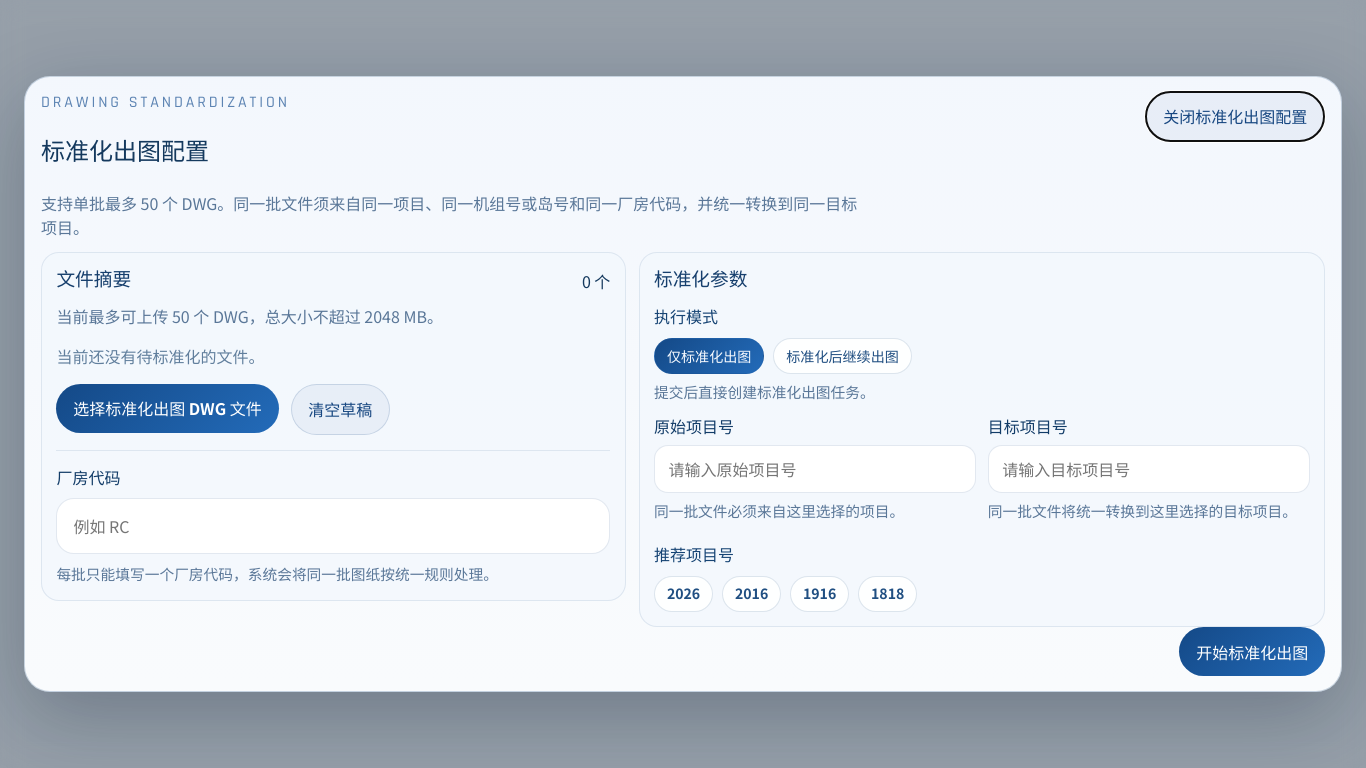
it: ReplaceWorkspace › shows the source unit or island selector for configured source projects
The image size is (1366, 768).
Expected: the field labelled "来源机组号/岛号" is not shown
In the field labelled "原始项目号": point(815, 469) [654,445,976,493], type "2016"
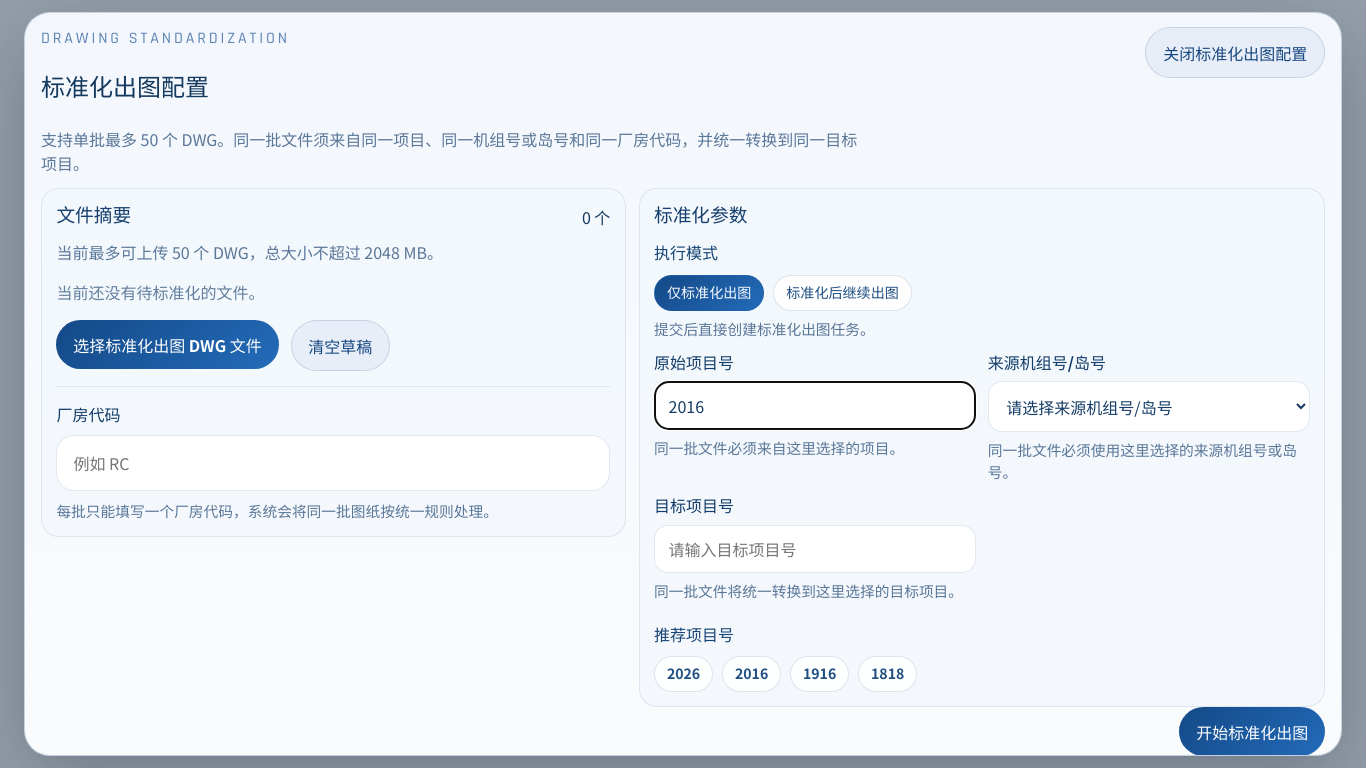
Expected: the dropdown labelled "来源机组号/岛号" is shown, [988,381,1310,432]
Clear the field labelled "原始项目号": point(815, 406) [654,381,976,430]
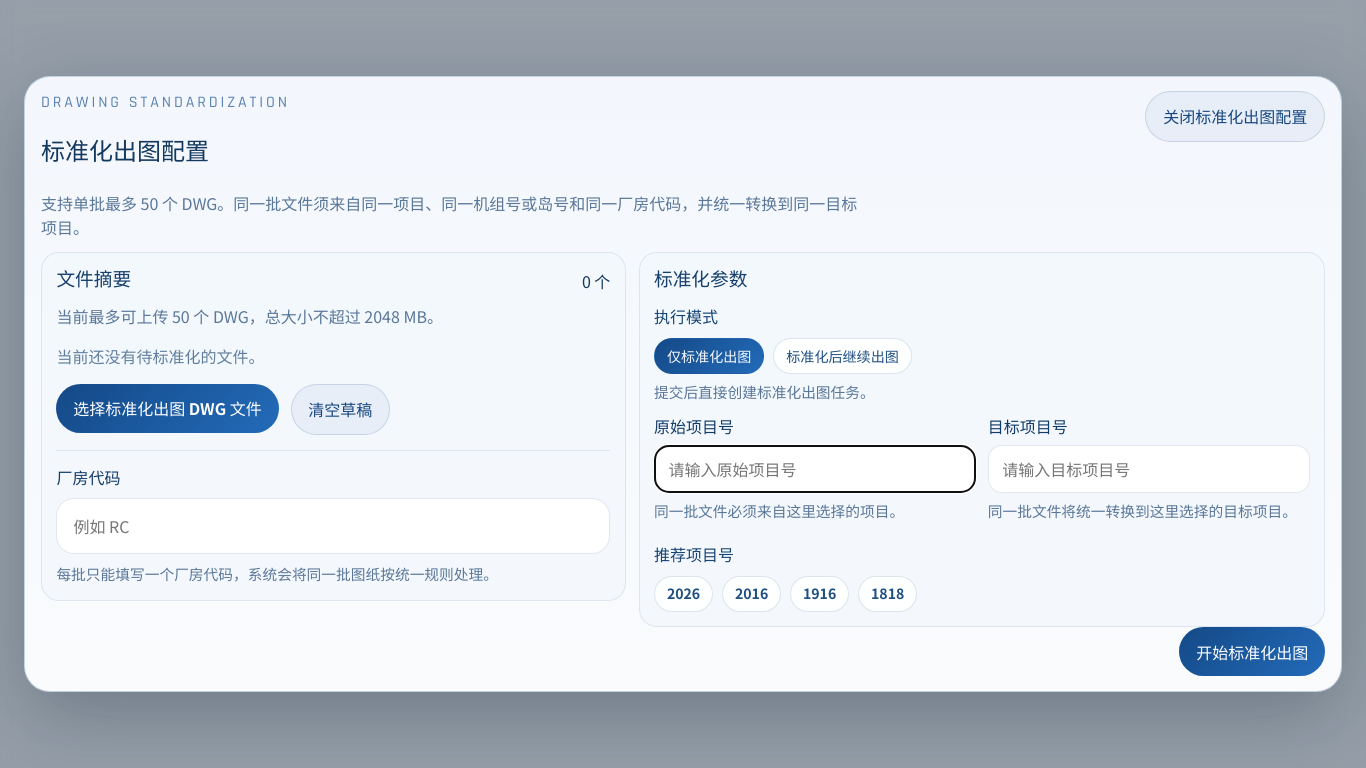
In the field labelled "原始项目号": point(815, 469) [654,445,976,493], type "1916"
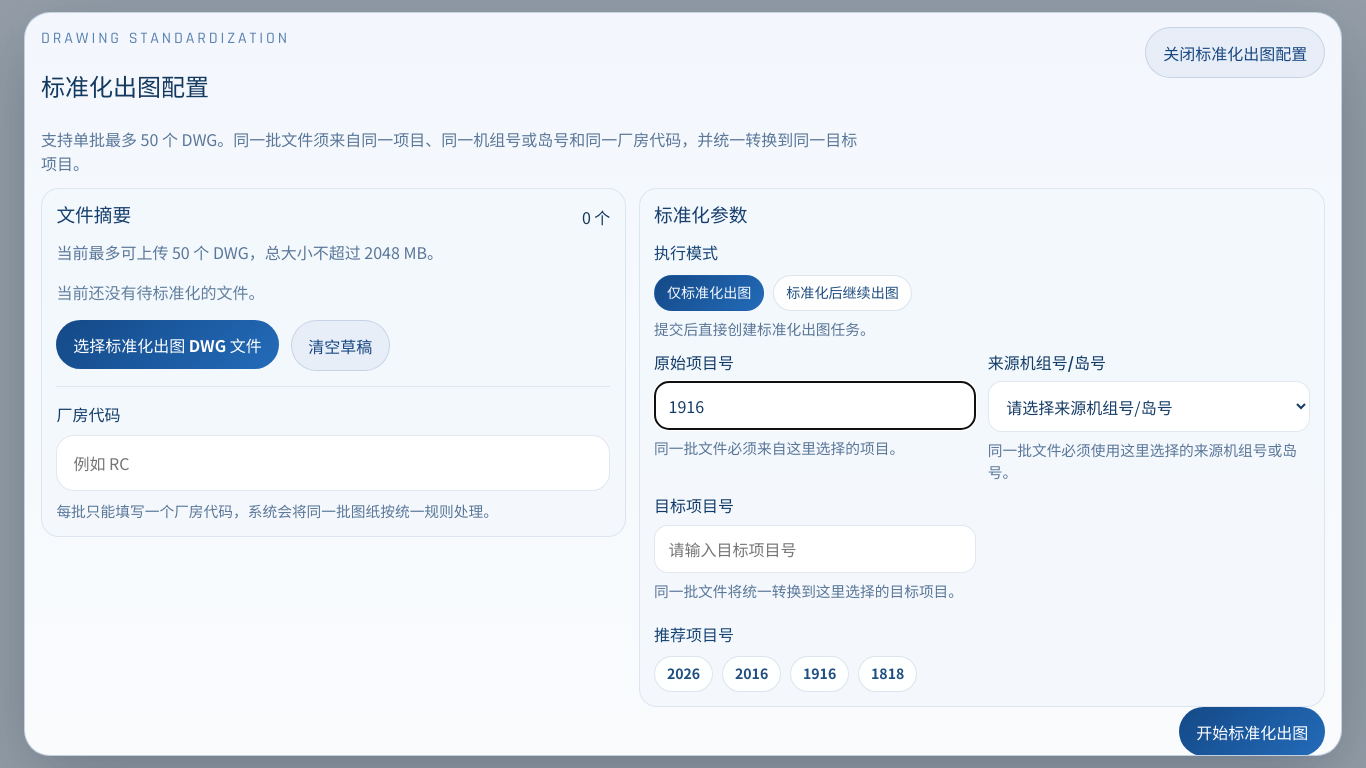
Expected: the dropdown labelled "来源机组号/岛号" is shown, [988,381,1310,432]
Clear the field labelled "原始项目号": point(815, 406) [654,381,976,430]
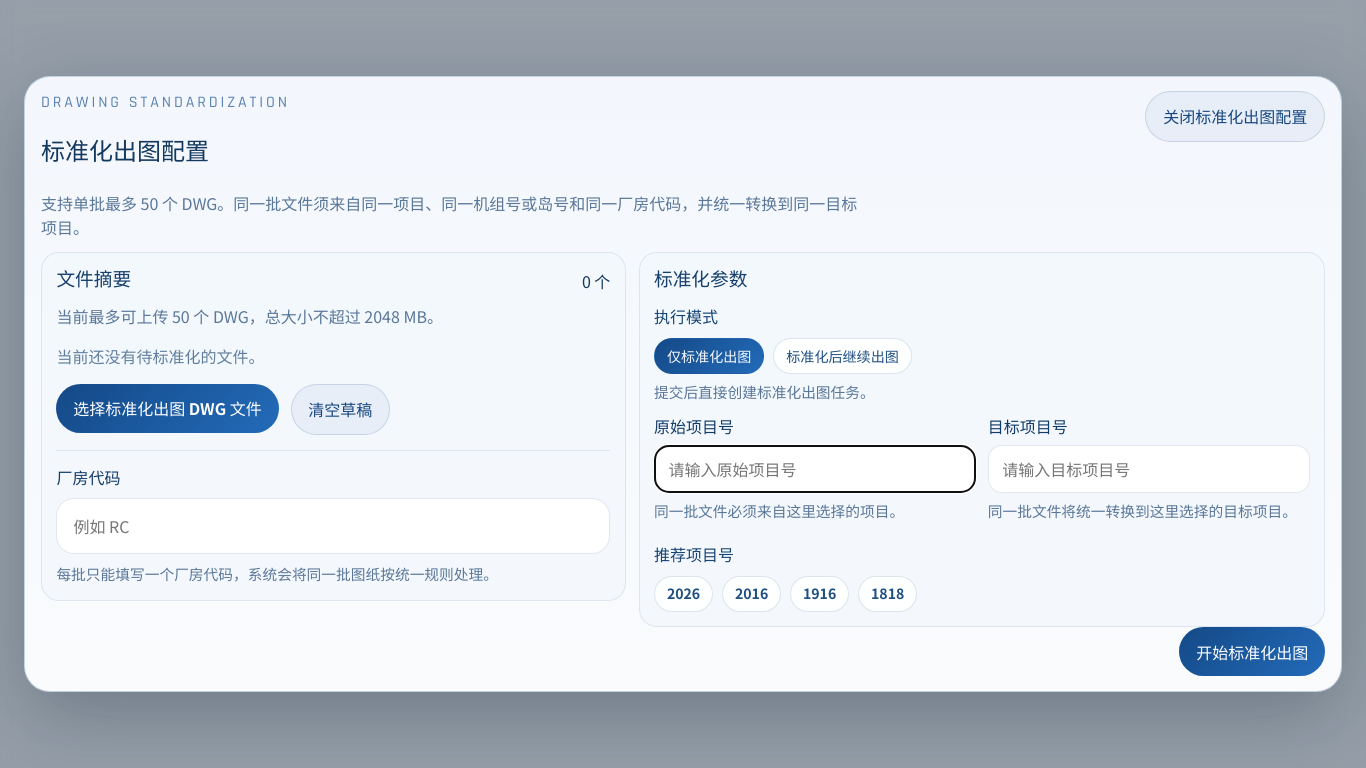
In the field labelled "原始项目号": point(815, 469) [654,445,976,493], type "2026"
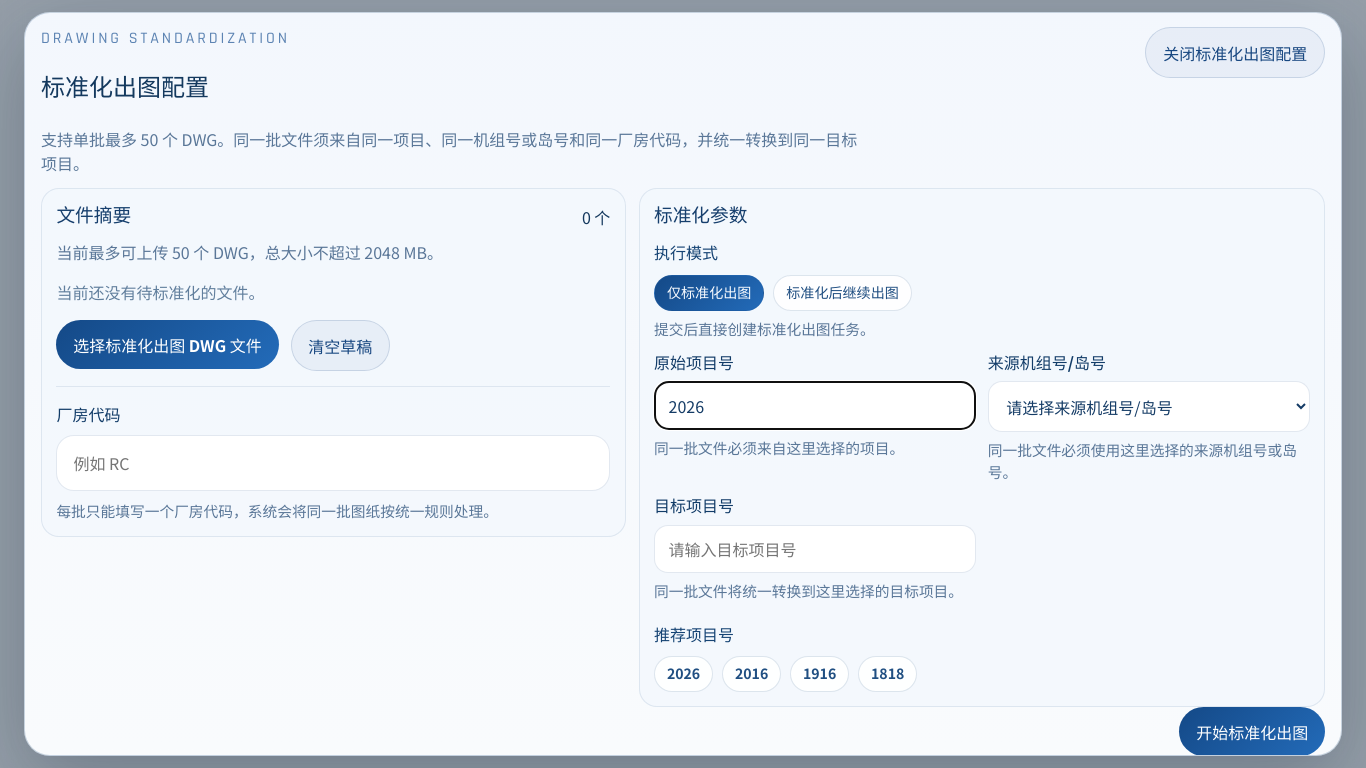
Expected: the dropdown labelled "来源机组号/岛号" is shown, [988,381,1310,432]
